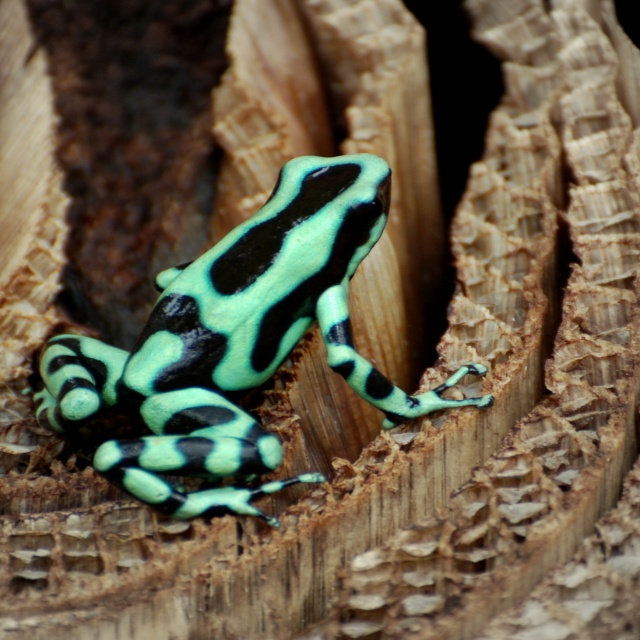Frog: (19, 150, 498, 530)
